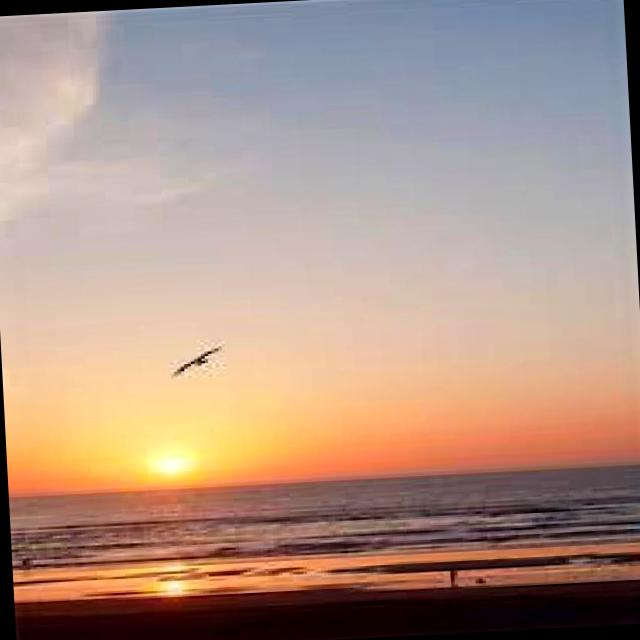bird: (167, 344, 223, 377)
